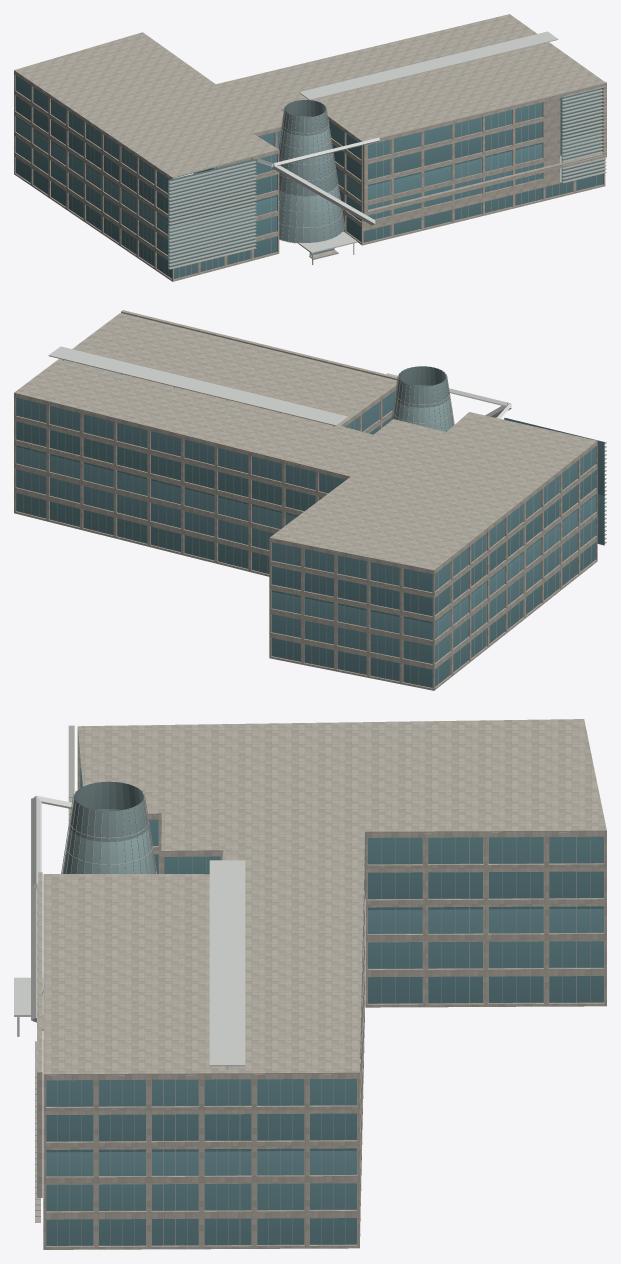
3 renders of one model, top to bottom at view 1: azimuth 30°, elevation 25°; view 2: azimuth 150°, elevation 25°; view 3: azimuth 270°, elevation 25°, orthographic. The views are drawn at different scales.
Visible parts, largest first — view 1: osm137110020__stone, osm137110020__glass, osm137110020__frame, osm137110020__glassCore, osm137110020__steel; view 2: osm137110020__stone, osm137110020__glass, osm137110020__frame, osm137110020__steel, osm137110020__glassCore; view 3: osm137110020__stone, osm137110020__glass, osm137110020__frame, osm137110020__steel, osm137110020__glassCore.
Part boxes in pixels (box(x1,y1,x2,y2)): osm137110020__stone: box(14, 14, 606, 281); osm137110020__glass: box(15, 75, 604, 278); osm137110020__frame: box(16, 86, 606, 279); osm137110020__glassCore: box(278, 100, 344, 255); osm137110020__steel: box(257, 31, 558, 253); osm137110020__stone: box(14, 310, 597, 690); osm137110020__glass: box(16, 390, 604, 687); osm137110020__frame: box(16, 366, 606, 687); osm137110020__steel: box(48, 346, 511, 426); osm137110020__glassCore: box(392, 366, 453, 431); osm137110020__stone: box(37, 719, 606, 1249); osm137110020__glass: box(46, 768, 603, 1245); osm137110020__frame: box(35, 725, 604, 1246); osm137110020__steel: box(14, 795, 245, 1069); osm137110020__glassCore: box(62, 781, 155, 873).
Bounding box in the file's own units: 95.02 × 27.84 × 66.68.
Materials: 6 (3 with a texture image).
